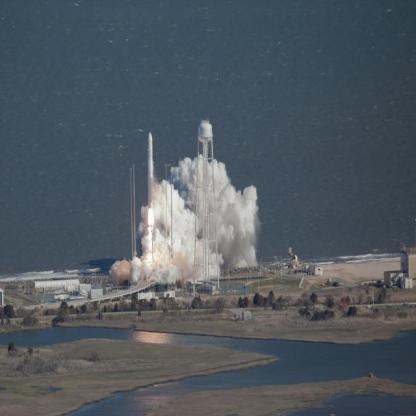MIL_TBM: (146, 131, 156, 224)
